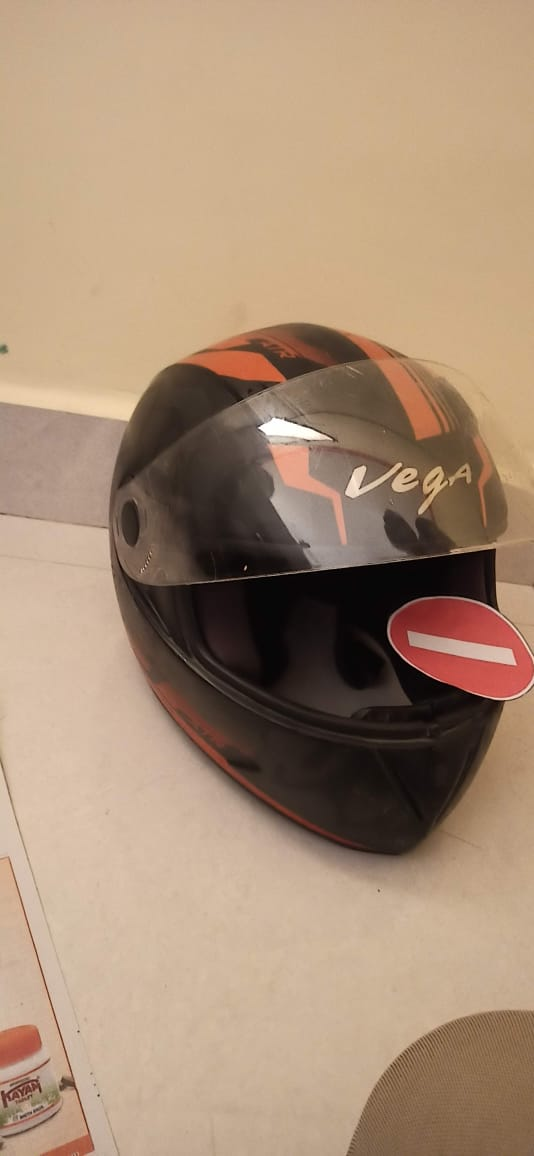NO ENTRY: (365, 572, 534, 724)
